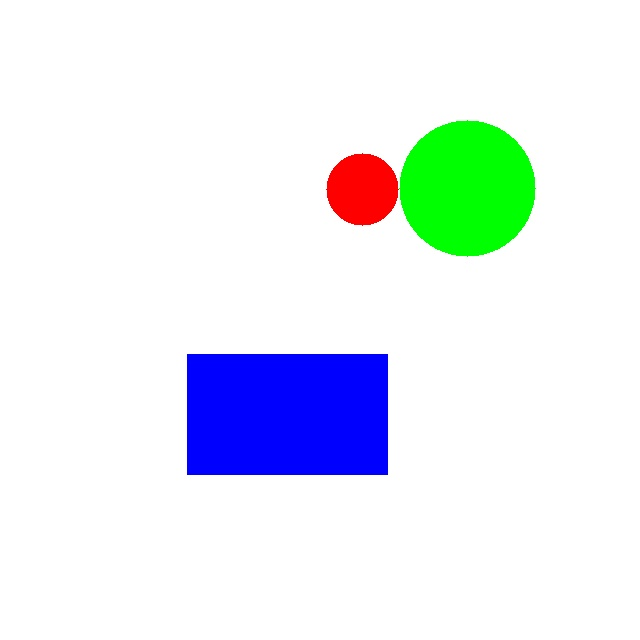cartao: (187, 354, 387, 474)
rosca_externa: (399, 120, 535, 256)
rosca_interna: (326, 153, 398, 225)
